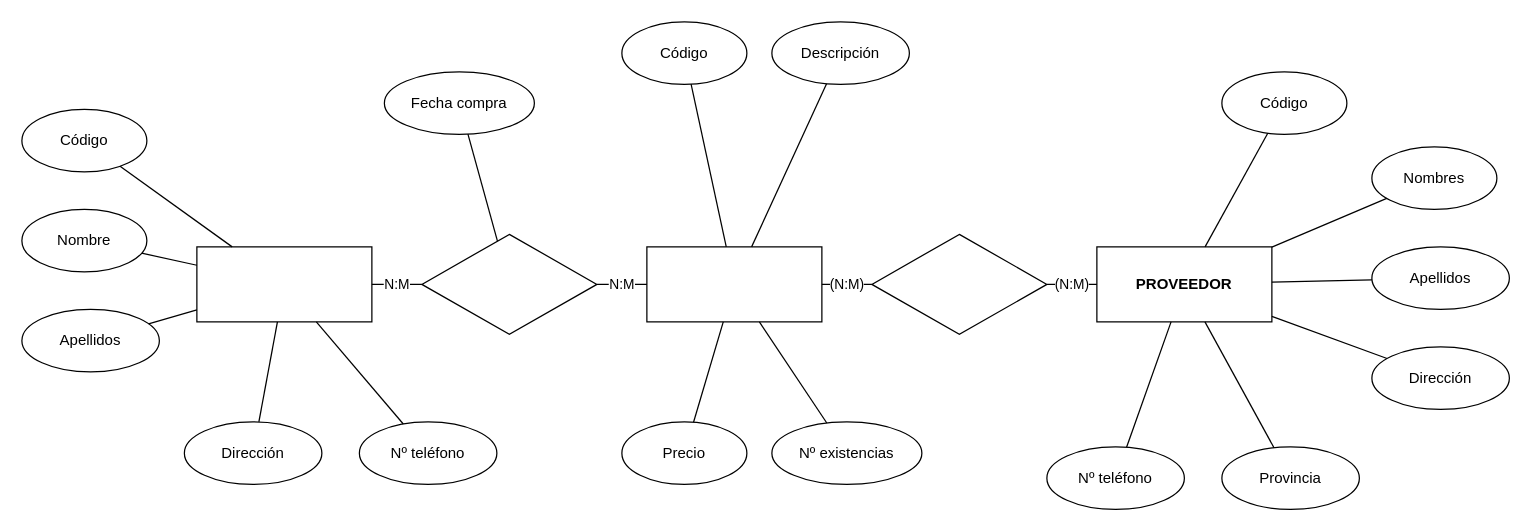
This 1531x531 diagram has some shape labels left out. Here are the shapes that lost their labels. From the top down, the centre of each, then its label:
At point 284,284: "CLIENTE".
At point 509,283: "COMPRA".
At point 734,284: "PRODUCTO".
At point 959,283: "SUMINISTRA".
